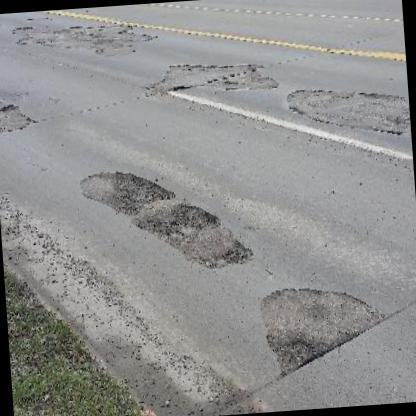pothole: (138, 201, 220, 237), (111, 165, 175, 209), (272, 335, 322, 373)
